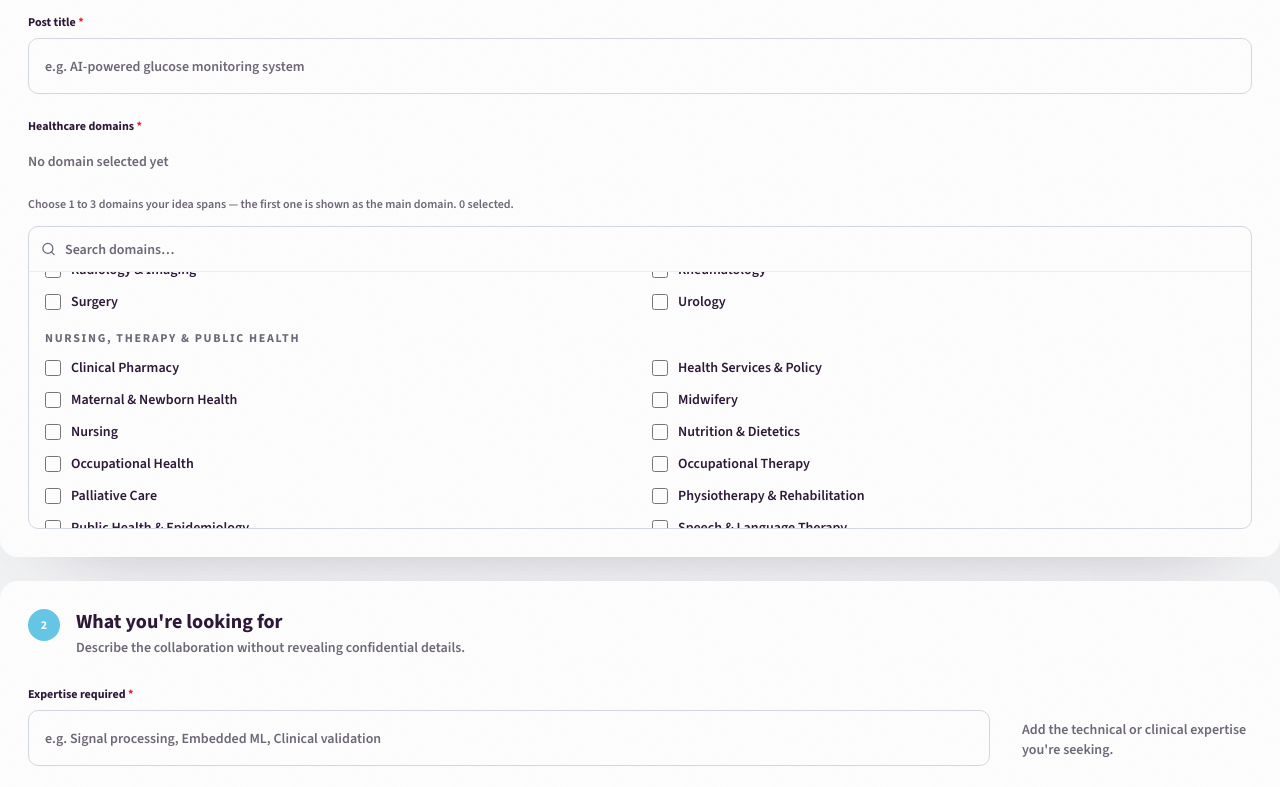
Test: PostFormFields › keeps the domains ticked in the picker as the post domains
(page scrolled)
Click the checkbox labelled "Midwifery" at (660, 400), box [652,392,668,408]
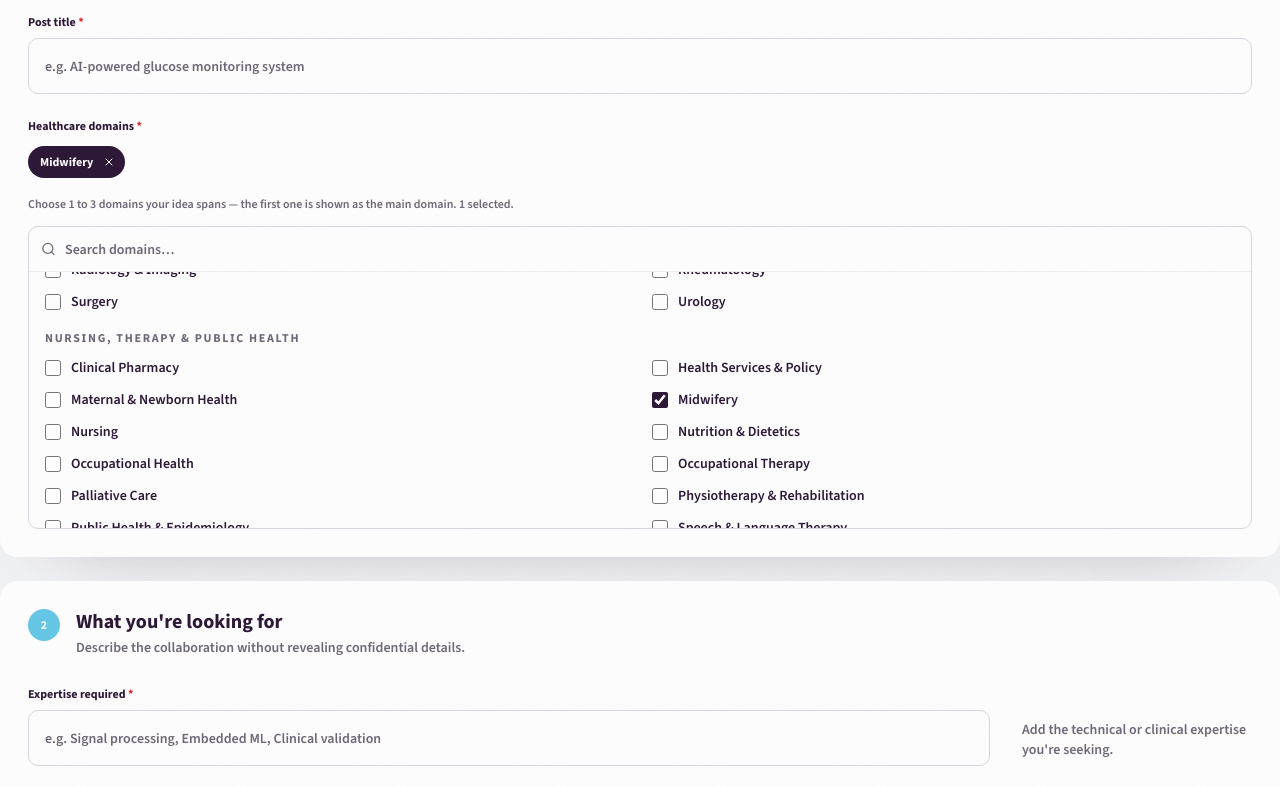
Expected: the button named "Remove Midwifery" is shown, [99,152,119,172]
